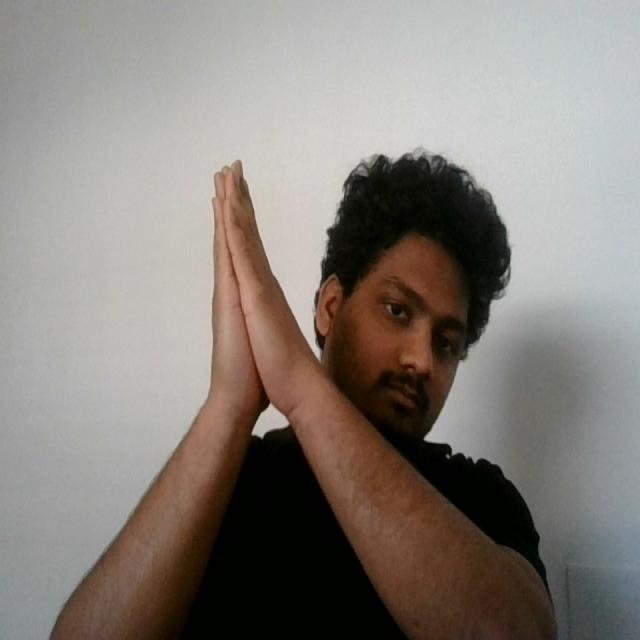Thanks: (199, 150, 319, 458)
